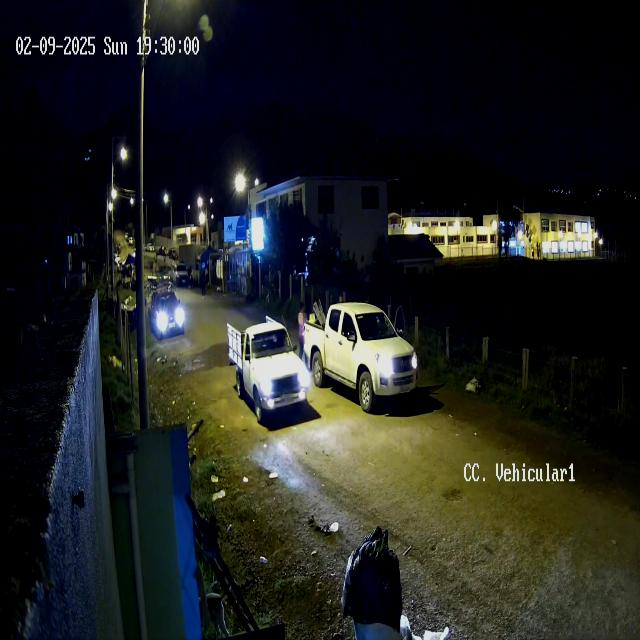CMT: (302, 301, 418, 414), (226, 316, 311, 426)
